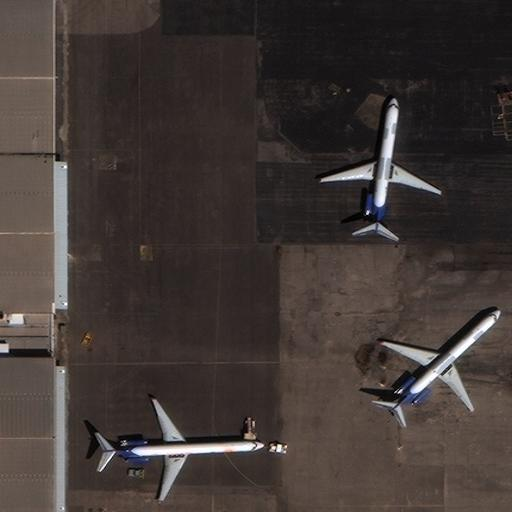Medium Civil Transport: (319, 97, 442, 236), (100, 397, 263, 501), (381, 309, 499, 412)
